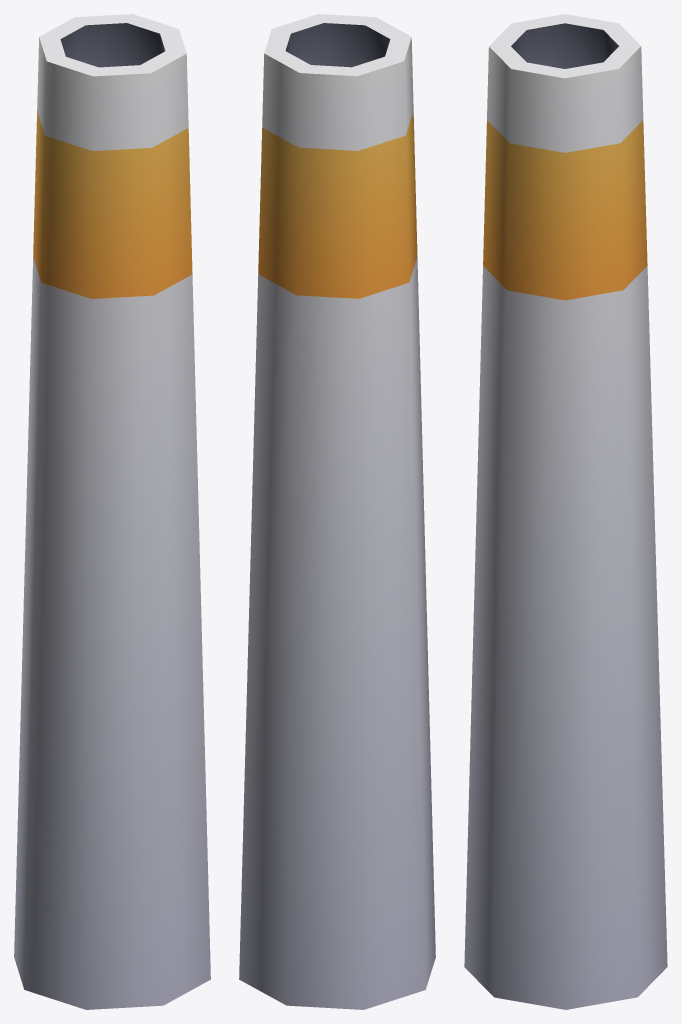
Rendered from chimney-basic_lev1.glb.
3 renders of one model, left to right at view 1: azimuth 30°, elevation 25°; view 2: azimuth 150°, elevation 25°; view 3: azimuth 270°, elevation 25°, orthographic.
Visible parts, largest first — view 1: chimney-basic_lev1; view 2: chimney-basic_lev1; view 3: chimney-basic_lev1.
Boxes of the visible parts, box(x1,y1,x2,y2) form: chimney-basic_lev1: box(14, 14, 210, 1009); chimney-basic_lev1: box(239, 14, 435, 1009); chimney-basic_lev1: box(464, 14, 667, 1009).
Bounding box in the file's own units: 0.2 × 1 × 0.2.
1 material, 1 textured.
